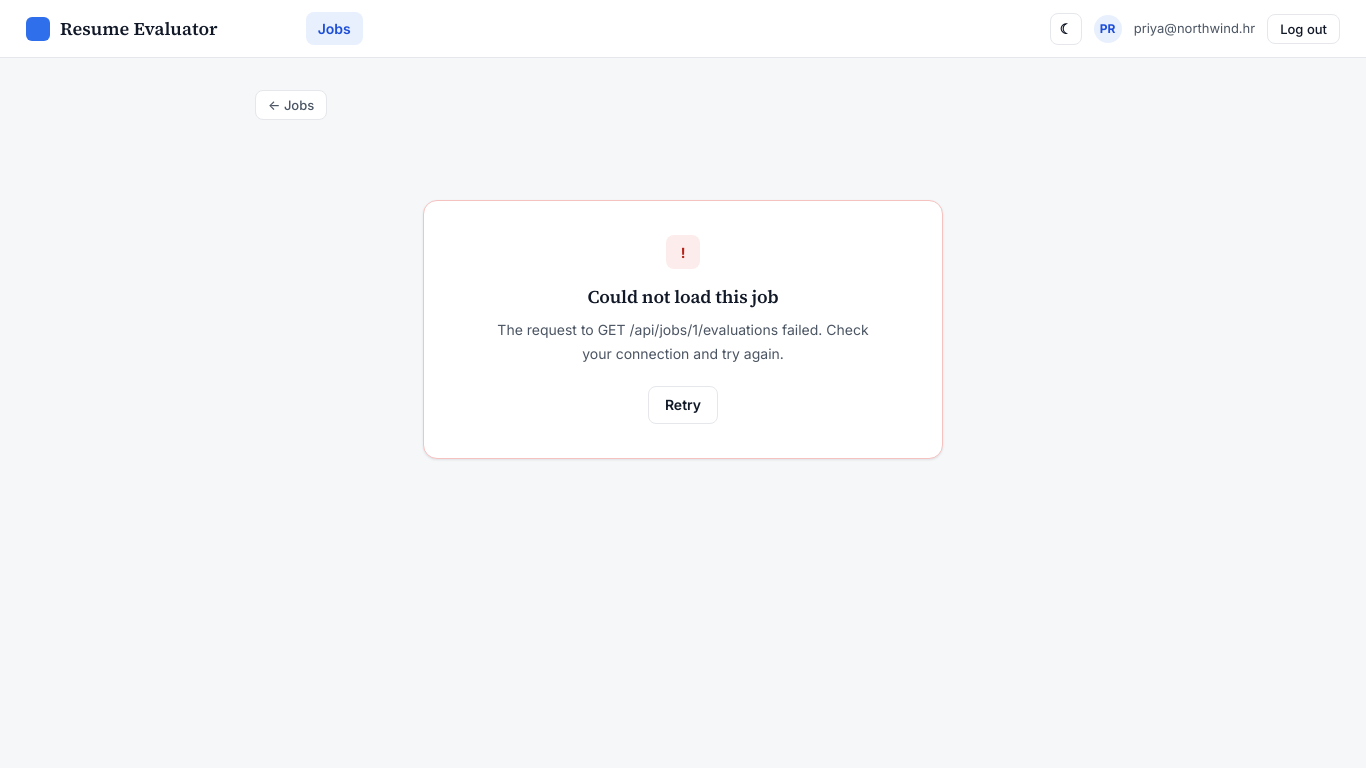
Scenario: Phase 6 - Job Candidates: loading the page › server error: message and a working Retry
Expected: the heading "Could not load this job" is shown, [588,284,778,309]
Click the button "Retry" at (683, 405), box [648,386,718,424]
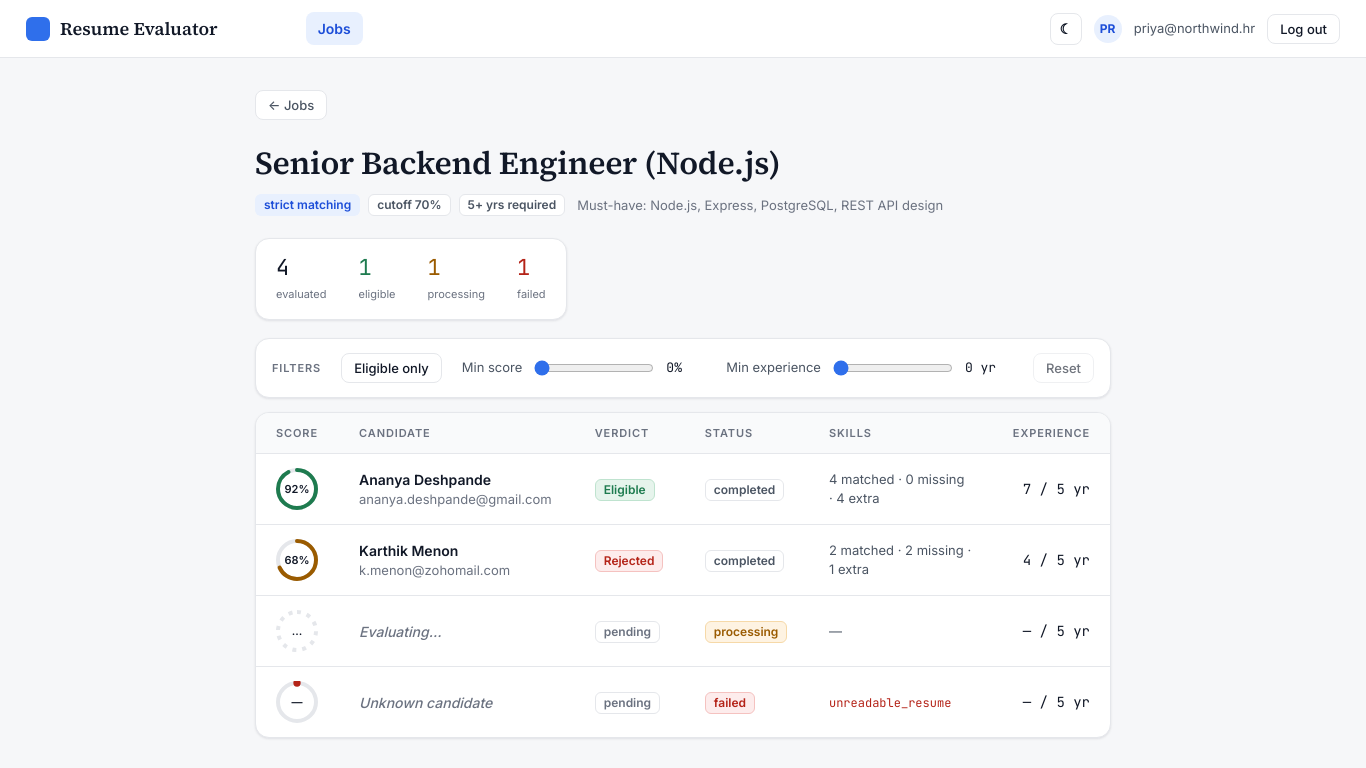
Now the text "Ananya Deshpande" is shown, box [359,471,491,488]
